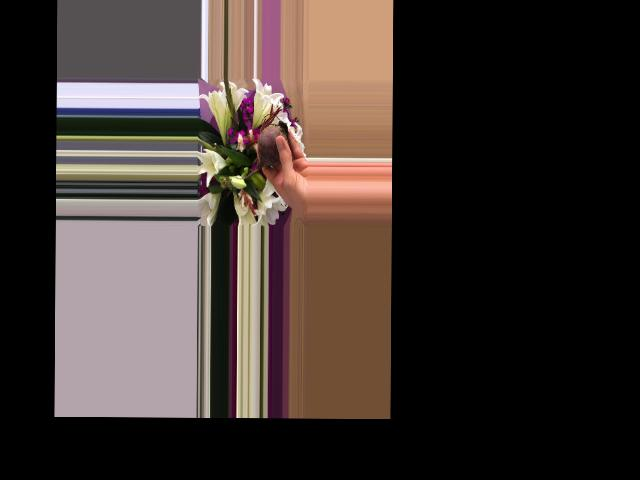beet: (235, 112, 289, 179)
